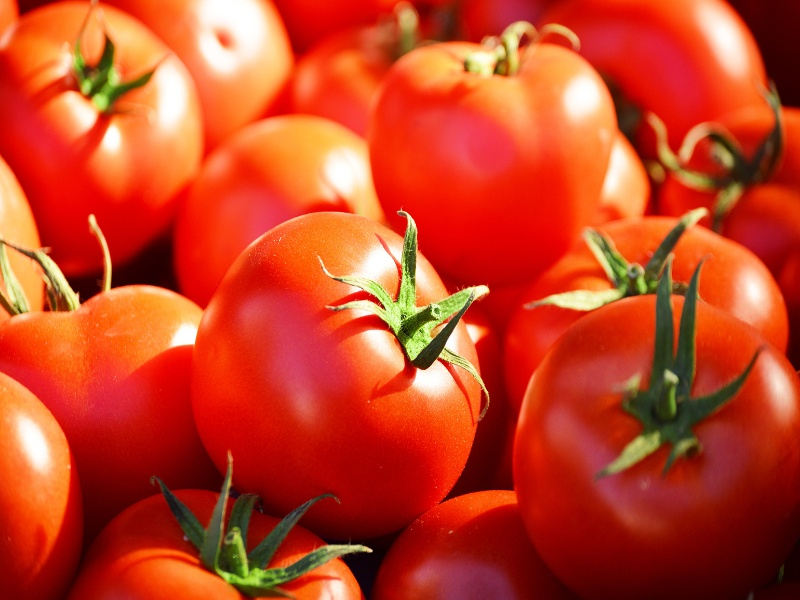Tomate: (191, 210, 483, 540), (512, 294, 799, 600), (370, 42, 619, 285), (2, 285, 232, 541), (1, 2, 205, 273), (510, 221, 787, 380), (175, 115, 401, 309), (534, 1, 783, 154), (71, 488, 368, 600), (112, 2, 292, 151), (660, 107, 800, 296), (379, 485, 560, 600), (1, 371, 85, 600), (295, 24, 460, 138)
